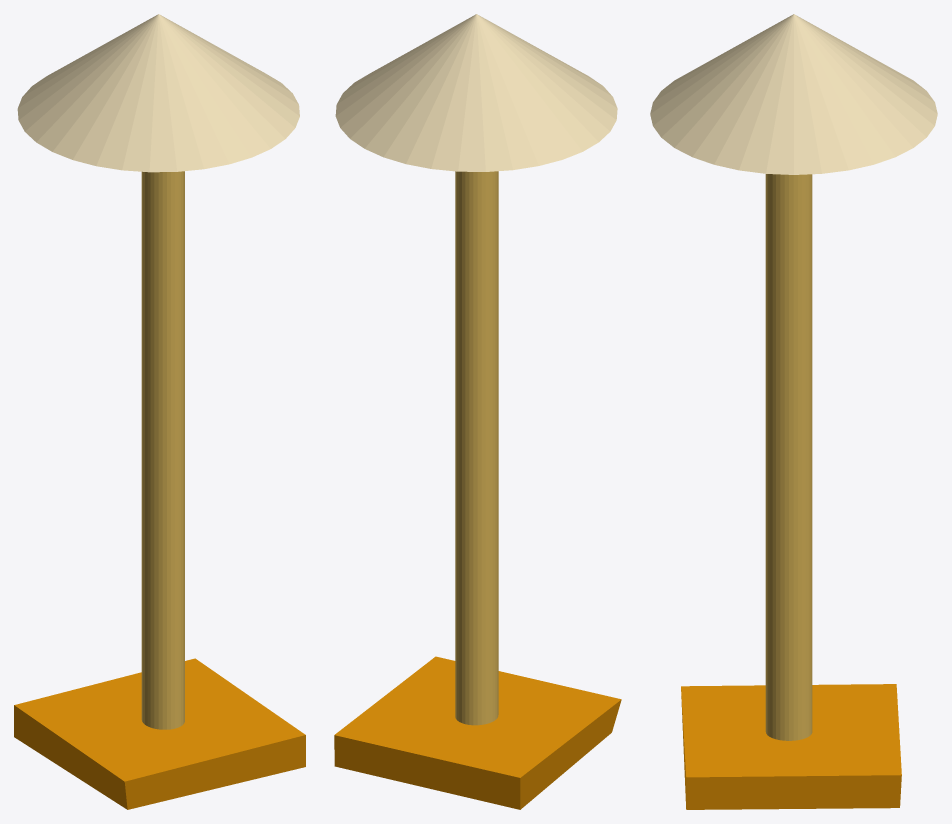
The model's file is Lamp.glb.
The picture shows the model from 3 angles, left to right: view 1: azimuth 30°, elevation 25°; view 2: azimuth 150°, elevation 25°; view 3: azimuth 270°, elevation 25°; orthographic projection.
Visible parts, largest first — view 1: Cone, Cube, Cylinder; view 2: Cone, Cube, Cylinder; view 3: Cone, Cylinder, Cube.
Boxes of the visible parts, <box> form: Cone: <box>17,14,299,172</box>; Cube: <box>14,658,305,809</box>; Cylinder: <box>141,171,184,729</box>; Cone: <box>335,14,617,171</box>; Cube: <box>334,656,621,809</box>; Cylinder: <box>455,171,498,725</box>; Cone: <box>650,14,937,174</box>; Cylinder: <box>765,174,812,740</box>; Cube: <box>681,684,901,809</box>.
Bounding box in the file's own units: 1.6 × 4.6 × 1.6.
